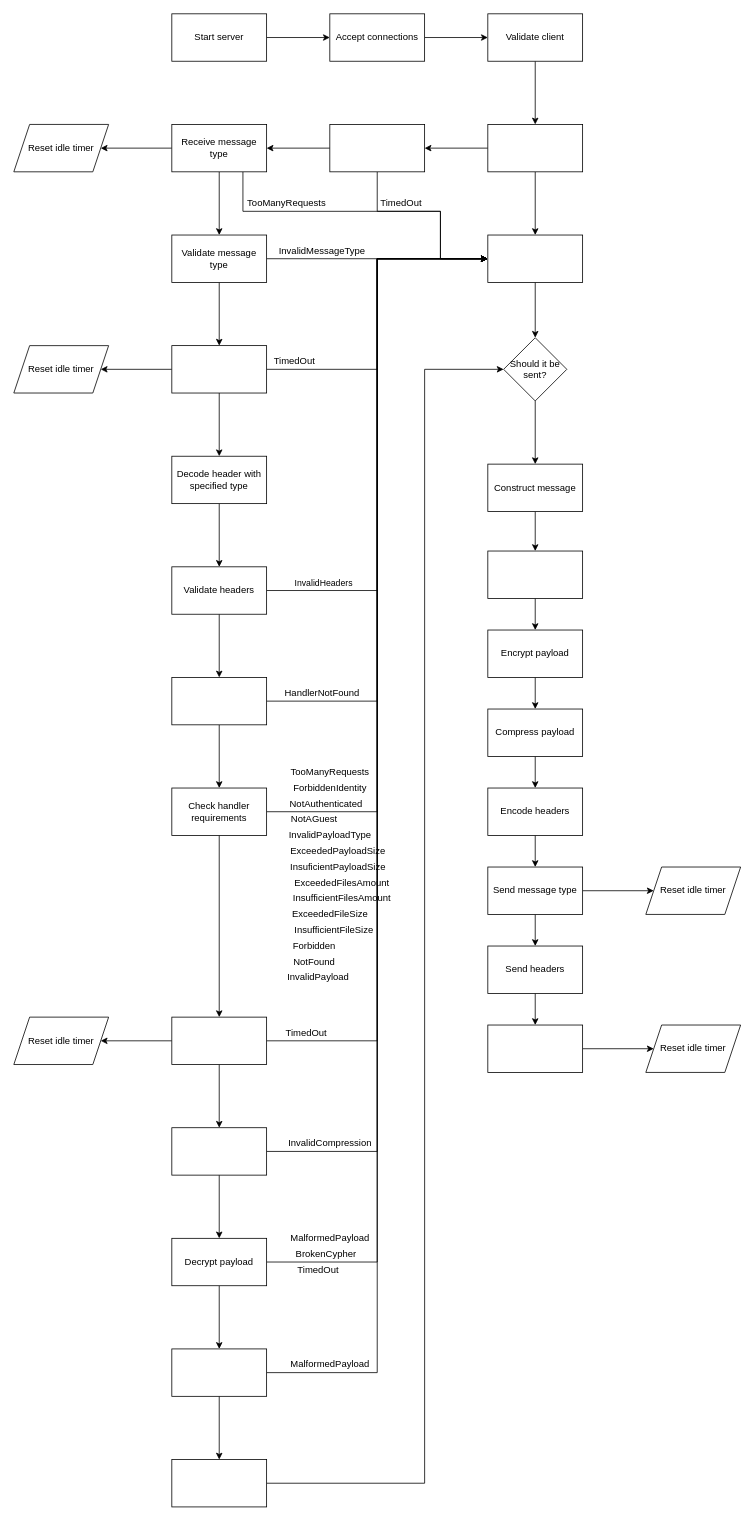
Image size: 754x1521. Some labels were removed from this diagram. Each missing label, with the centre of its shape:
Decode payload: pixel 219 1372
Decompress payload: pixel 219 1151
Encode payload: pixel 535 574
Find handler: pixel 219 701
Get client's properties: pixel 535 148
Handle payload: pixel 219 1483
Listen to messages: pixel 377 148
Receive message headers: pixel 219 369
Receive payload: pixel 219 1040
Send payload: pixel 535 1048
Wait for events: pixel 535 258
